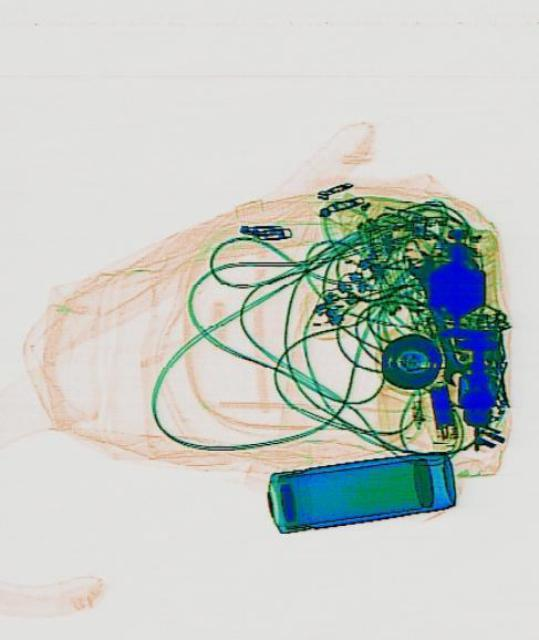Wrench: (401, 248, 470, 386)
